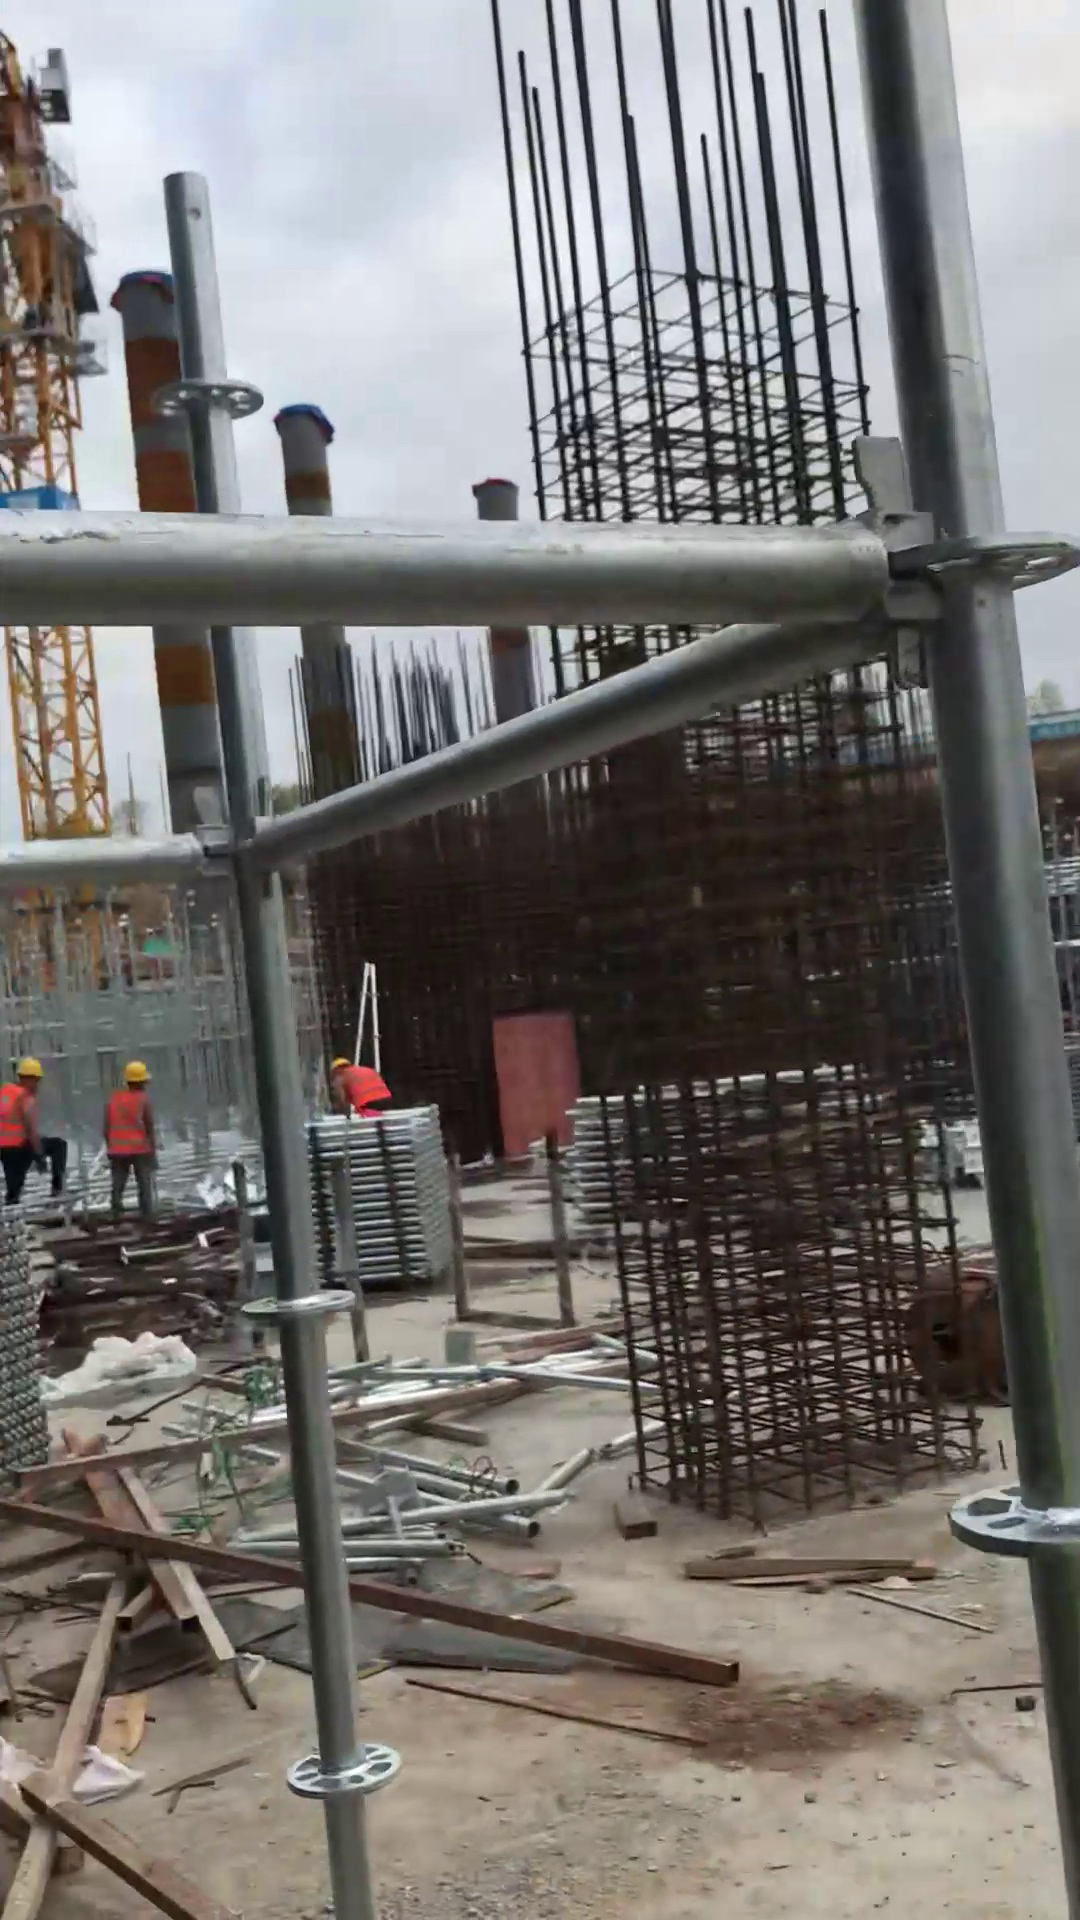helmet: (115, 1057, 161, 1090), (10, 1051, 51, 1088), (329, 1052, 358, 1078)
person: (90, 1050, 173, 1238), (1, 1045, 76, 1211), (323, 1050, 399, 1130)
vest: (100, 1084, 156, 1167), (1, 1080, 48, 1153), (339, 1061, 394, 1112)
